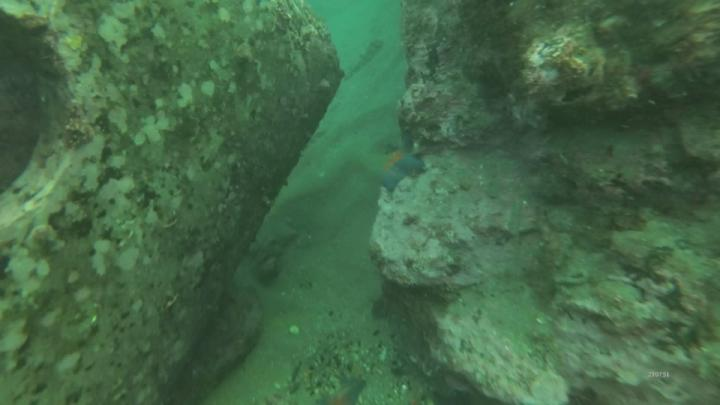holothurian: (374, 145, 430, 194)
